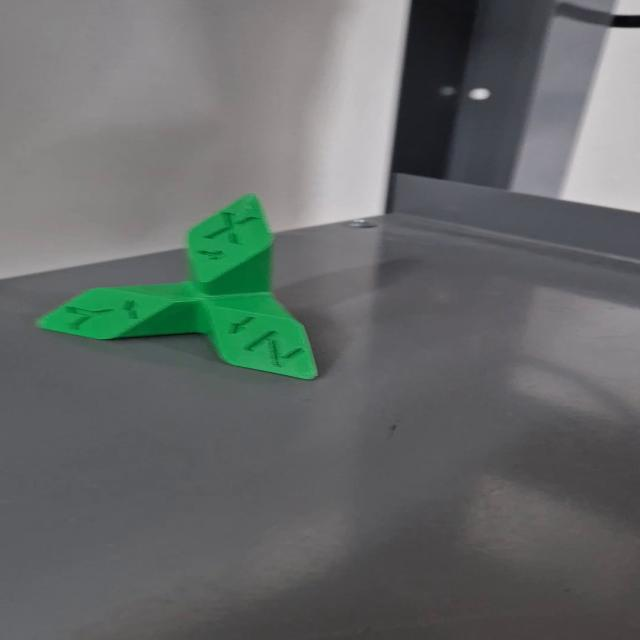objects: (27, 190, 330, 386)
